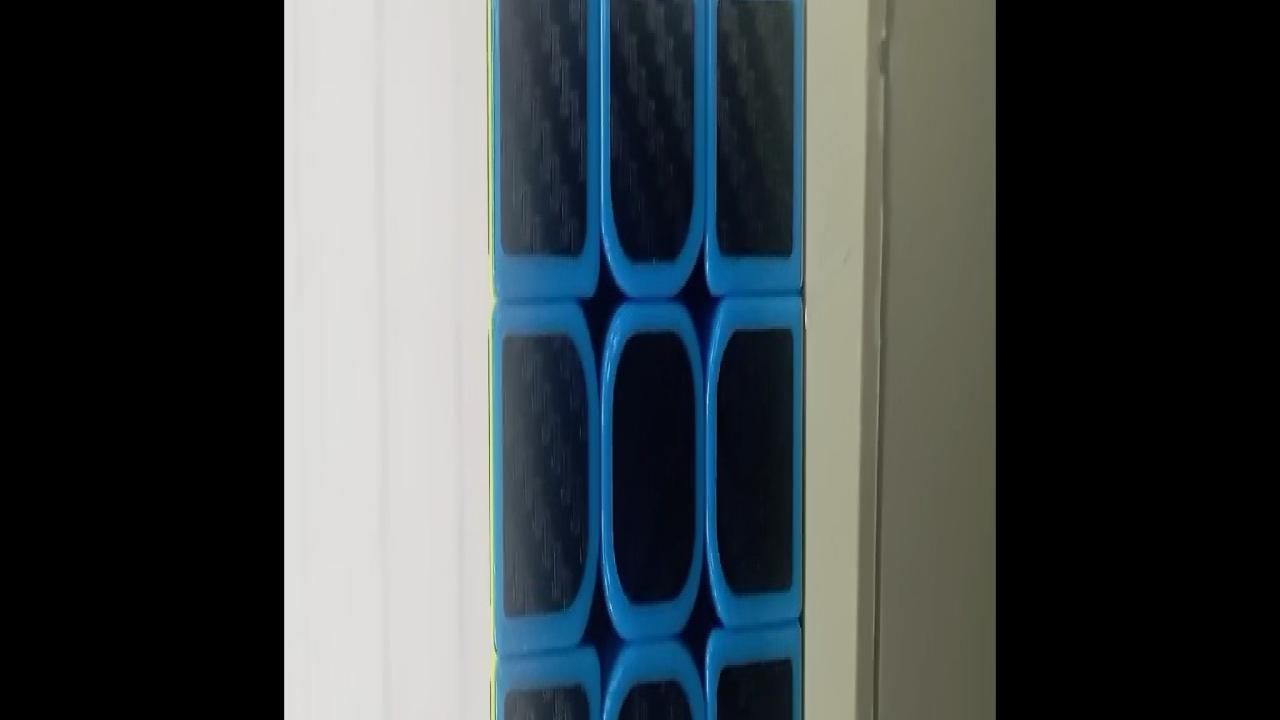Cube: (486, 0, 805, 720)
